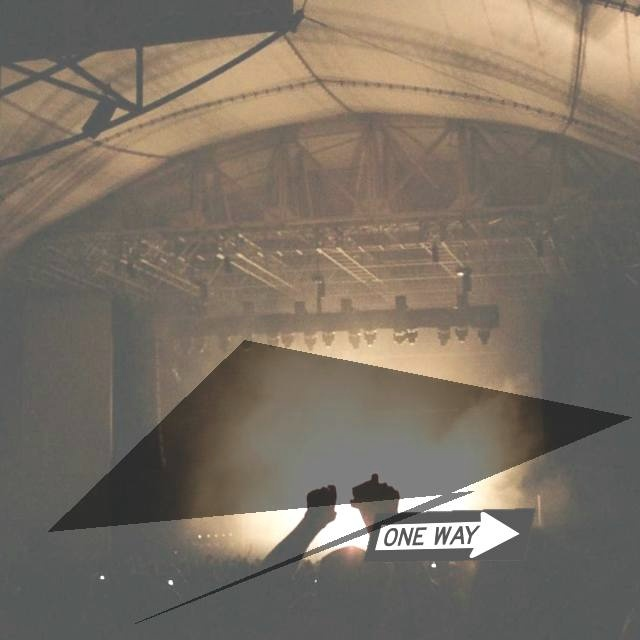ONE_WAY_ right: (362, 507, 536, 563)
